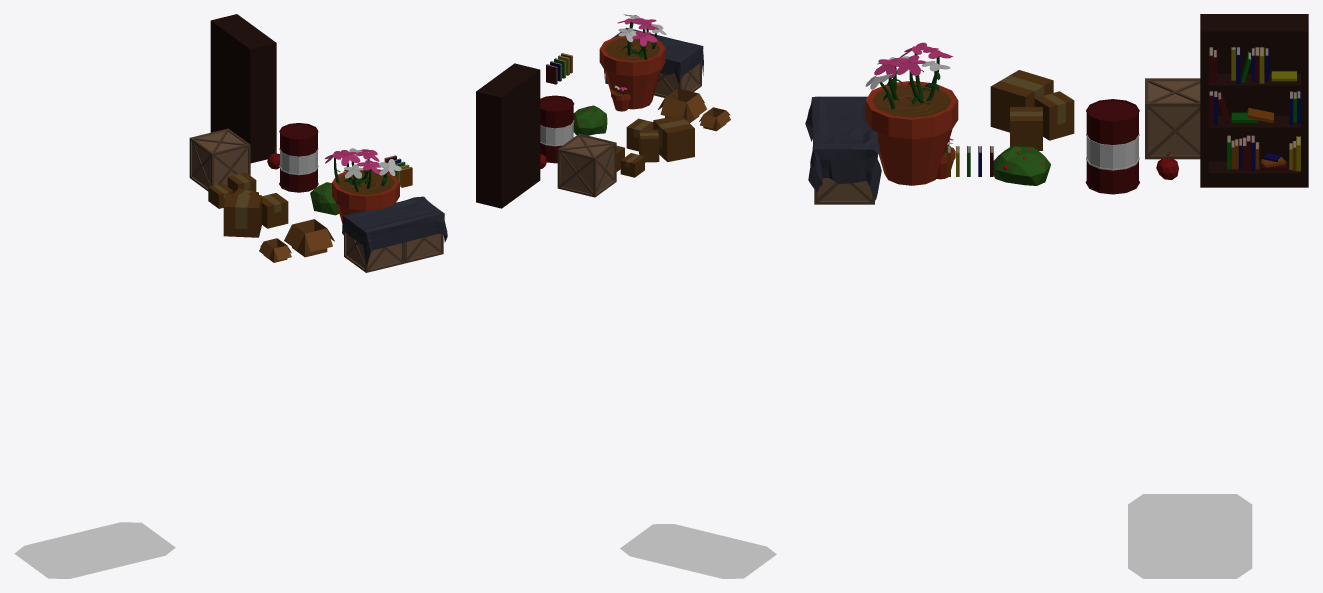
The model's file is Bush.obj.
3 views of the same model, side by side, from view 1: azimuth 30°, elevation 25°; view 2: azimuth 150°, elevation 25°; view 3: azimuth 270°, elevation 25° (orthographic). The views are drawn at different scales.
Visible parts, largest first — view 1: Cube.037_Cube.039, Cube.019_Cube.014, Plane, Cube.006_Cube.012, Cube.007_Cube.004, Cylinder.003_Cylinder.001, Cylinder.001_Cylinder.009, Cube, Icosphere.009_Icosphere.013, Cube.009; view 2: Cube.037_Cube.039, Plane, Cylinder.001_Cylinder.009, Cube.006_Cube.012, Cube.007_Cube.004, Cube.019_Cube.014, Cylinder.003_Cylinder.001, Cube, Icosphere.009_Icosphere.013, Cube.009, Cube.011; view 3: Cube.037_Cube.039, Plane, Cube.019_Cube.014, Cylinder.001_Cylinder.009, Cube.007_Cube.004, Cylinder.003_Cylinder.001, Cube.006_Cube.012, Icosphere.009_Icosphere.013.
Boxes of the visible parts, box(x1,y1,x2,y2) form: Cube.037_Cube.039: box(210, 14, 276, 163); Cube.019_Cube.014: box(342, 196, 447, 272); Plane: box(14, 522, 175, 578); Cube.006_Cube.012: box(189, 128, 250, 191); Cube.007_Cube.004: box(223, 188, 288, 237); Cylinder.003_Cylinder.001: box(279, 123, 318, 192); Cylinder.001_Cylinder.009: box(332, 169, 399, 223); Cube: box(284, 219, 334, 257); Icosphere.009_Icosphere.013: box(310, 182, 339, 215); Cube.009: box(259, 238, 291, 262); Cube.037_Cube.039: box(476, 63, 540, 208); Plane: box(620, 524, 776, 578); Cylinder.001_Cylinder.009: box(599, 35, 665, 109); Cube.006_Cube.012: box(557, 133, 616, 197); Cube.007_Cube.004: box(626, 115, 694, 162); Cube.019_Cube.014: box(604, 27, 703, 97); Cylinder.003_Cylinder.001: box(540, 95, 574, 163); Cube: box(658, 88, 706, 123); Icosphere.009_Icosphere.013: box(573, 105, 607, 135); Cube.009: box(699, 107, 730, 131); Cube.011: box(620, 153, 644, 177); Cube.037_Cube.039: box(1200, 14, 1308, 187); Plane: box(1128, 494, 1252, 578); Cube.019_Cube.014: box(805, 96, 881, 204); Cylinder.001_Cylinder.009: box(865, 81, 958, 185); Cube.007_Cube.004: box(990, 70, 1074, 150); Cylinder.003_Cylinder.001: box(1085, 99, 1139, 194); Cube.006_Cube.012: box(1145, 78, 1200, 159); Icosphere.009_Icosphere.013: box(993, 146, 1050, 185).
Size of the model in its own units: 15.2 by 22.81 by 16.56.
